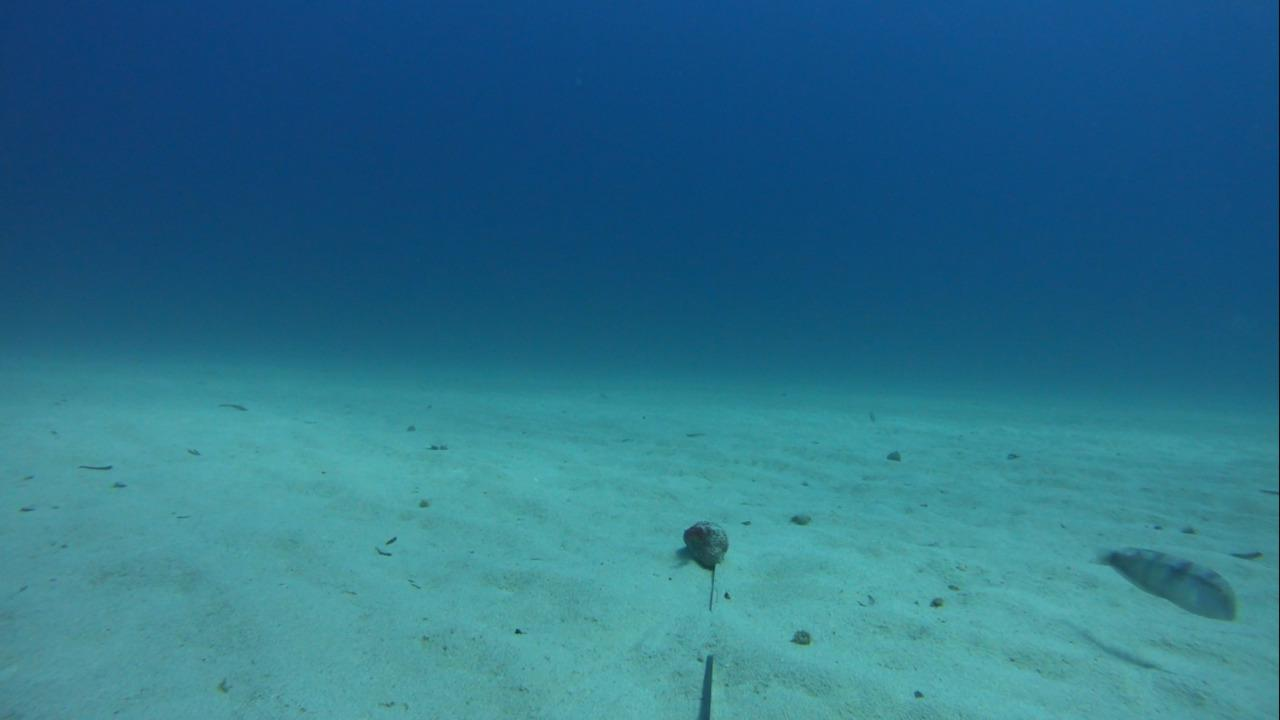raor: (1086, 536, 1241, 627)
